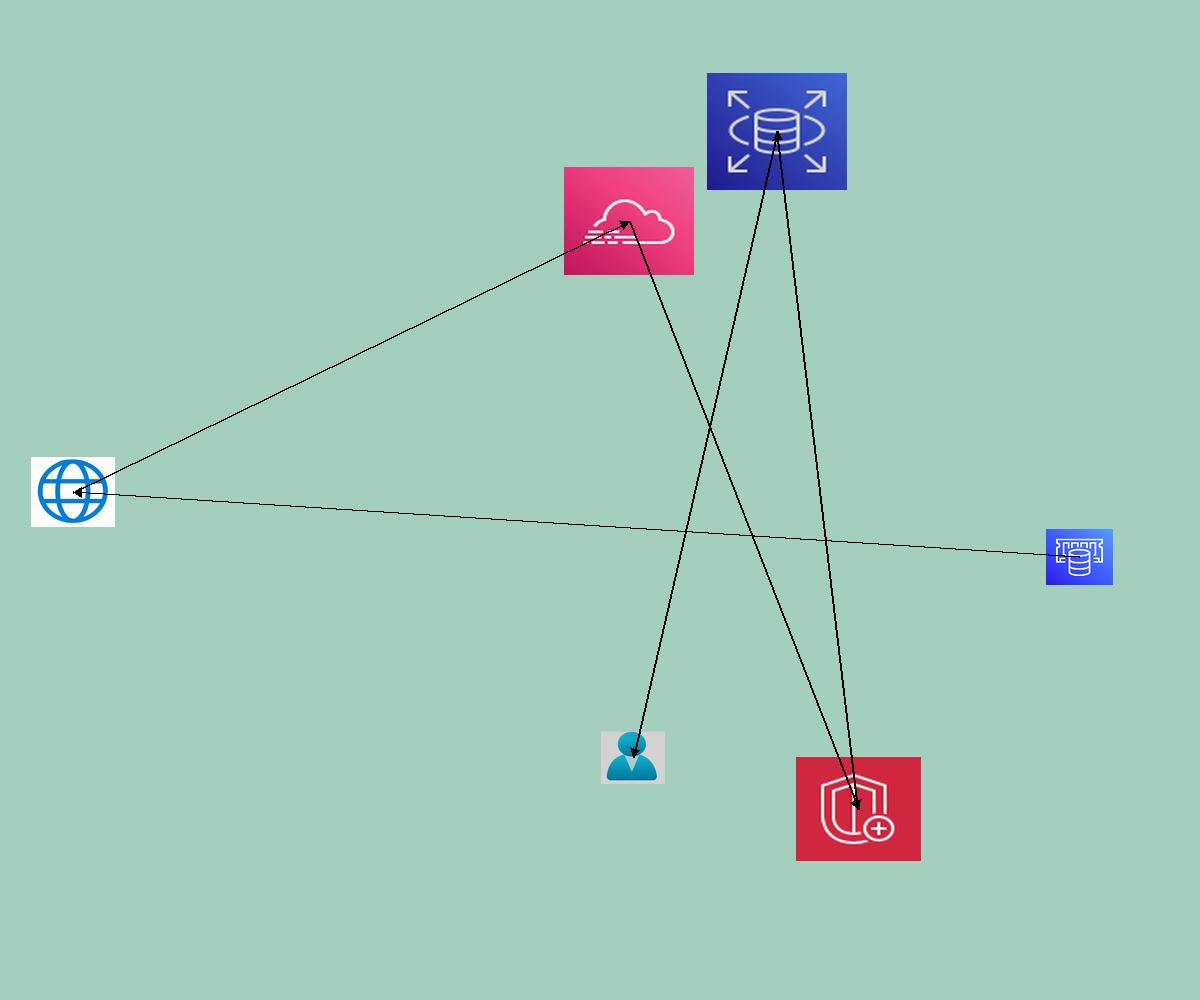AWS-CloudTrail: (564, 167, 694, 275)
AWS-ElastiCache: (1046, 529, 1113, 585)
AWS-RDS: (707, 73, 847, 190)
AWS-Shield: (796, 757, 921, 861)
Azure_http: (31, 457, 115, 527)
Azure_users: (601, 731, 665, 784)
